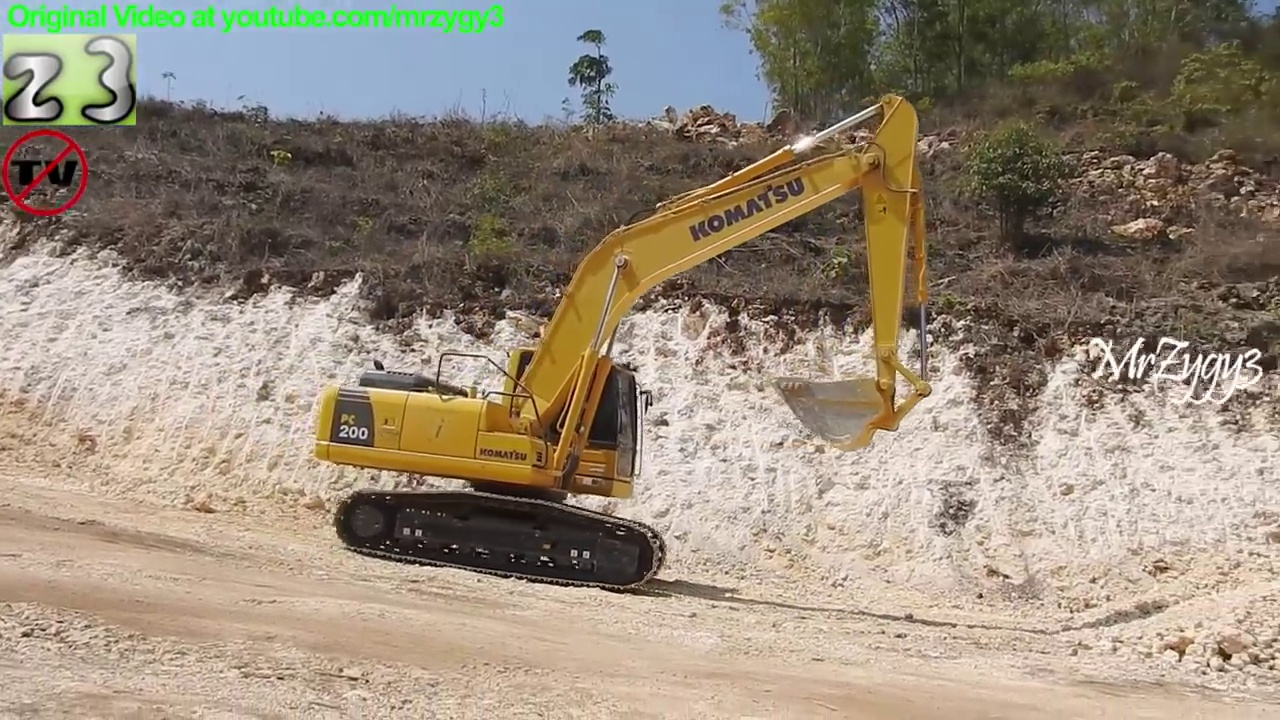excavator: (309, 88, 938, 595)
